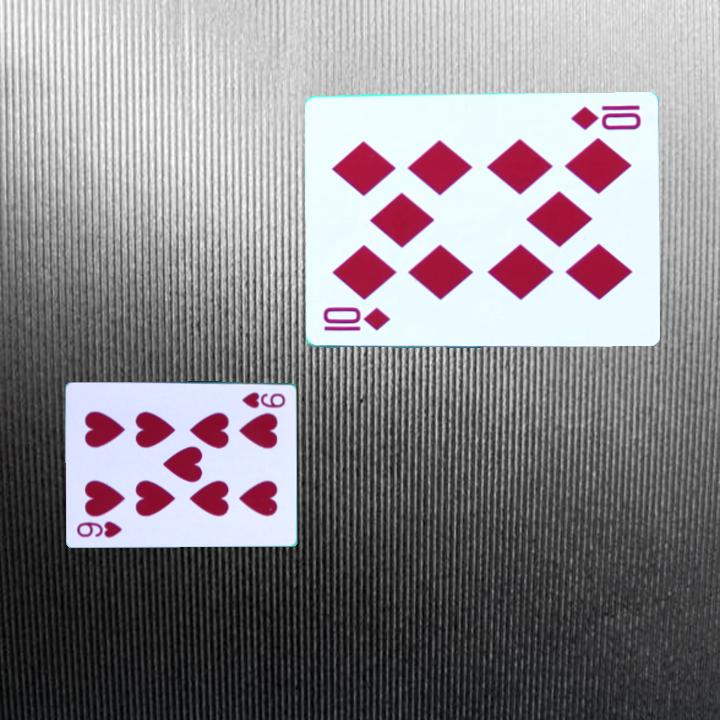10d: (568, 101, 644, 133), (320, 304, 394, 334)
9h: (73, 518, 124, 541), (238, 389, 288, 411)
